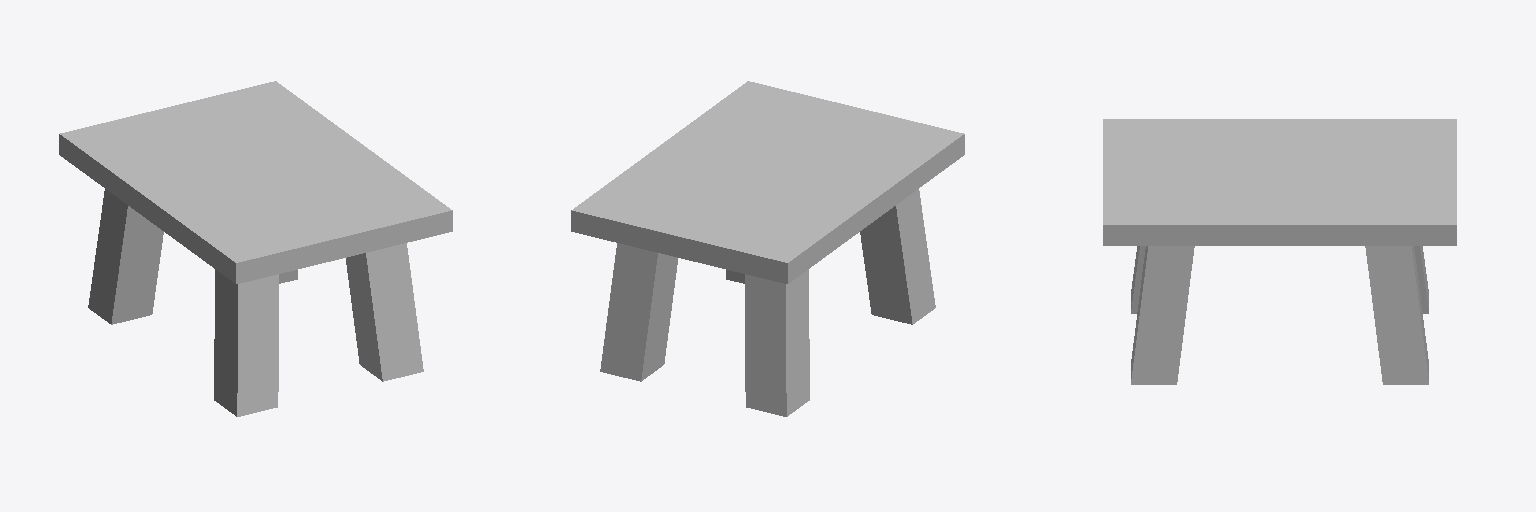
File: crafting_bench.obj
The picture shows the model from 3 angles: view 1: azimuth 30°, elevation 25°; view 2: azimuth 150°, elevation 25°; view 3: azimuth 270°, elevation 25°; orthographic projection.
Parts seen in each view (by area): view 1: Cube; view 2: Cube; view 3: Cube.
Part boxes in pixels (left/top/right/bottom): Cube: left=59, top=81, right=452, bottom=416; Cube: left=571, top=81, right=964, bottom=416; Cube: left=1103, top=119, right=1456, bottom=384.
Size of the model in its own units: 2.85 by 2.11 by 4.03.